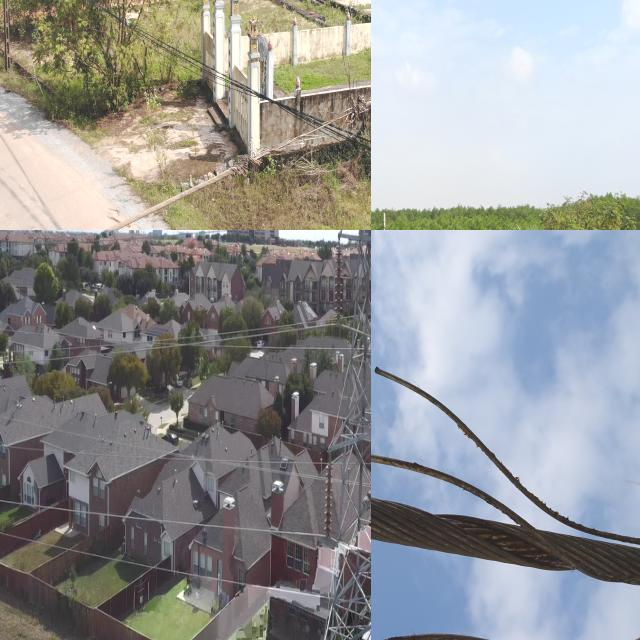杆塔: (319, 230, 371, 640)
正常电缆: (0, 469, 315, 547)
正常绝缘子: (330, 237, 346, 329), (322, 452, 336, 546)
电缆破损: (371, 355, 640, 640), (215, 61, 371, 194)
